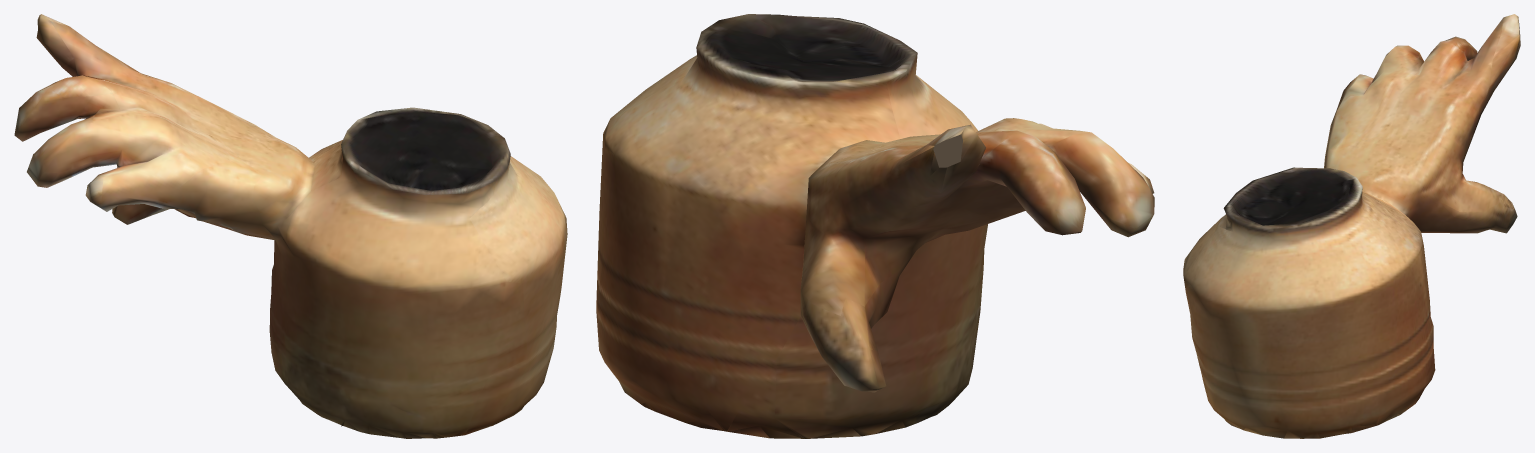
Rendered from Zagreus.glb.
3 views of the same model, side by side, from view 1: azimuth 30°, elevation 25°; view 2: azimuth 150°, elevation 25°; view 3: azimuth 270°, elevation 25° (orthographic). The views are drawn at different scales.
Visible parts, largest first — view 1: Zagreus; view 2: Zagreus; view 3: Zagreus.
Part boxes in pixels (x1=…): Zagreus: x1=14, y1=14, x2=567, y2=438; Zagreus: x1=596, y1=14, x2=1154, y2=438; Zagreus: x1=1183, y1=14, x2=1520, y2=438.
Size of the model in its own units: 3 by 2.21 by 2.34.
Materials: 1 (1 with a texture image).
